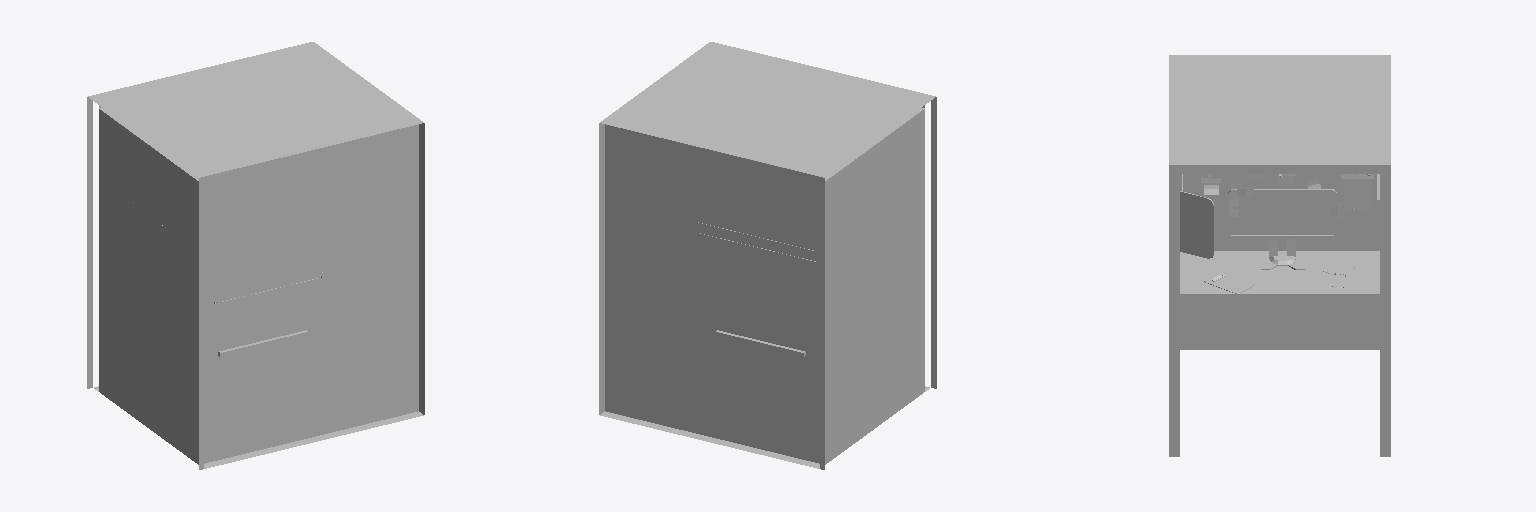
File: Concepting (1).obj
The picture shows the model from 3 angles: view 1: azimuth 30°, elevation 25°; view 2: azimuth 150°, elevation 25°; view 3: azimuth 270°, elevation 25°; orthographic projection.
Parts seen in each view (by area): view 1: Concepting_(1); view 2: Concepting_(1); view 3: Concepting_(1).
Part boxes in pixels (bbox=[...]): Concepting_(1): bbox=[87, 42, 424, 469]; Concepting_(1): bbox=[599, 42, 936, 469]; Concepting_(1): bbox=[1169, 55, 1390, 456].
Size of the model in its own units: 18.71 by 23.14 by 15.95.